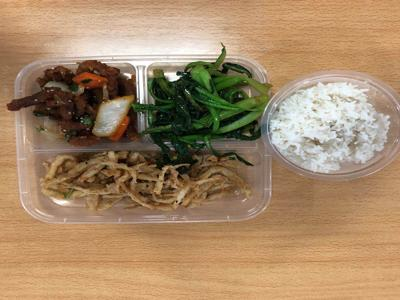rice: (273, 73, 394, 183)
ymc: (148, 62, 266, 141)
